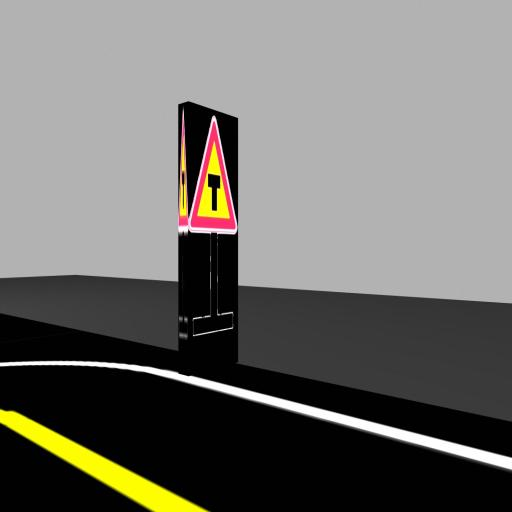Intersection: (189, 116, 237, 233), (178, 113, 188, 233)
